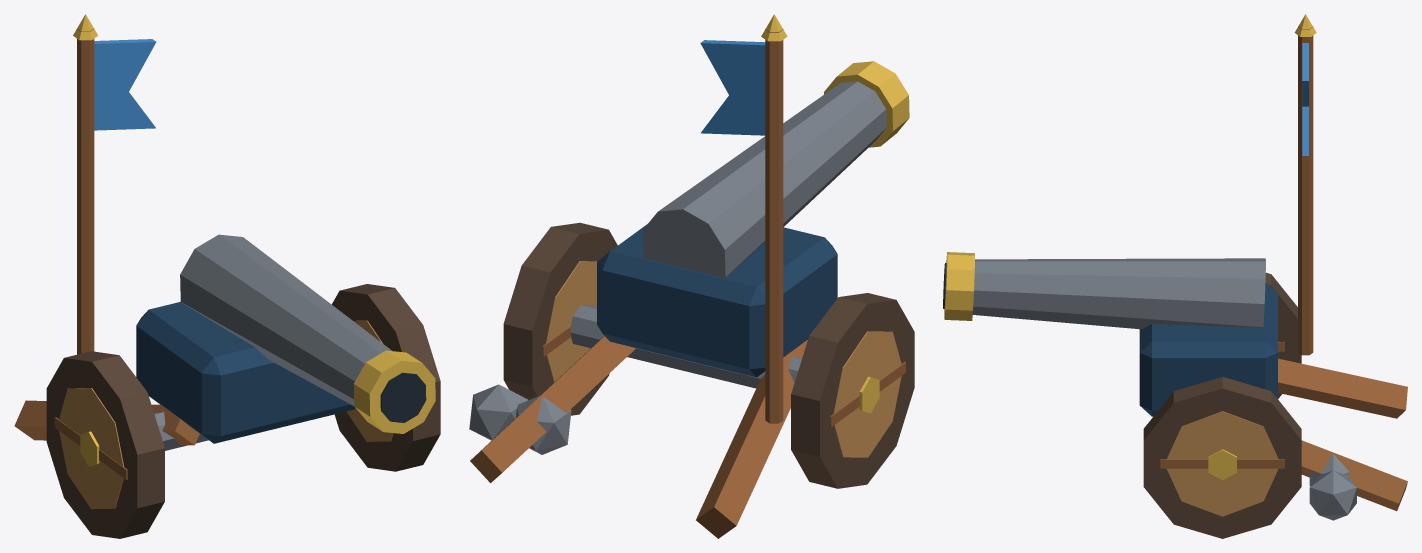
Rendered from u_cannon.glb.
The picture shows the model from 3 angles, left to right: view 1: azimuth 30°, elevation 25°; view 2: azimuth 150°, elevation 25°; view 3: azimuth 270°, elevation 25°; orthographic projection. The views are drawn at different scales.
Parts seen in each view (by area): view 1: u_cannon; view 2: u_cannon; view 3: u_cannon.
Part boxes in pixels (left/top/right/bottom): u_cannon: left=14, top=14, right=440, bottom=538; u_cannon: left=469, top=14, right=914, bottom=538; u_cannon: left=943, top=14, right=1407, bottom=538.
Size of the model in its own units: 0.2304 by 0.33 by 0.336.
